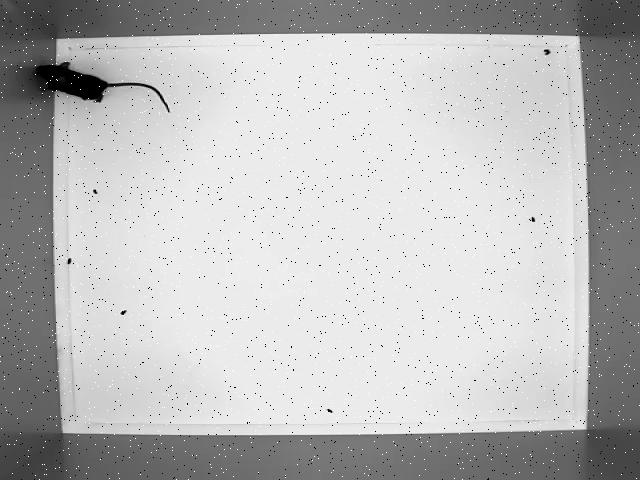Tikus: (26, 57, 183, 115)
